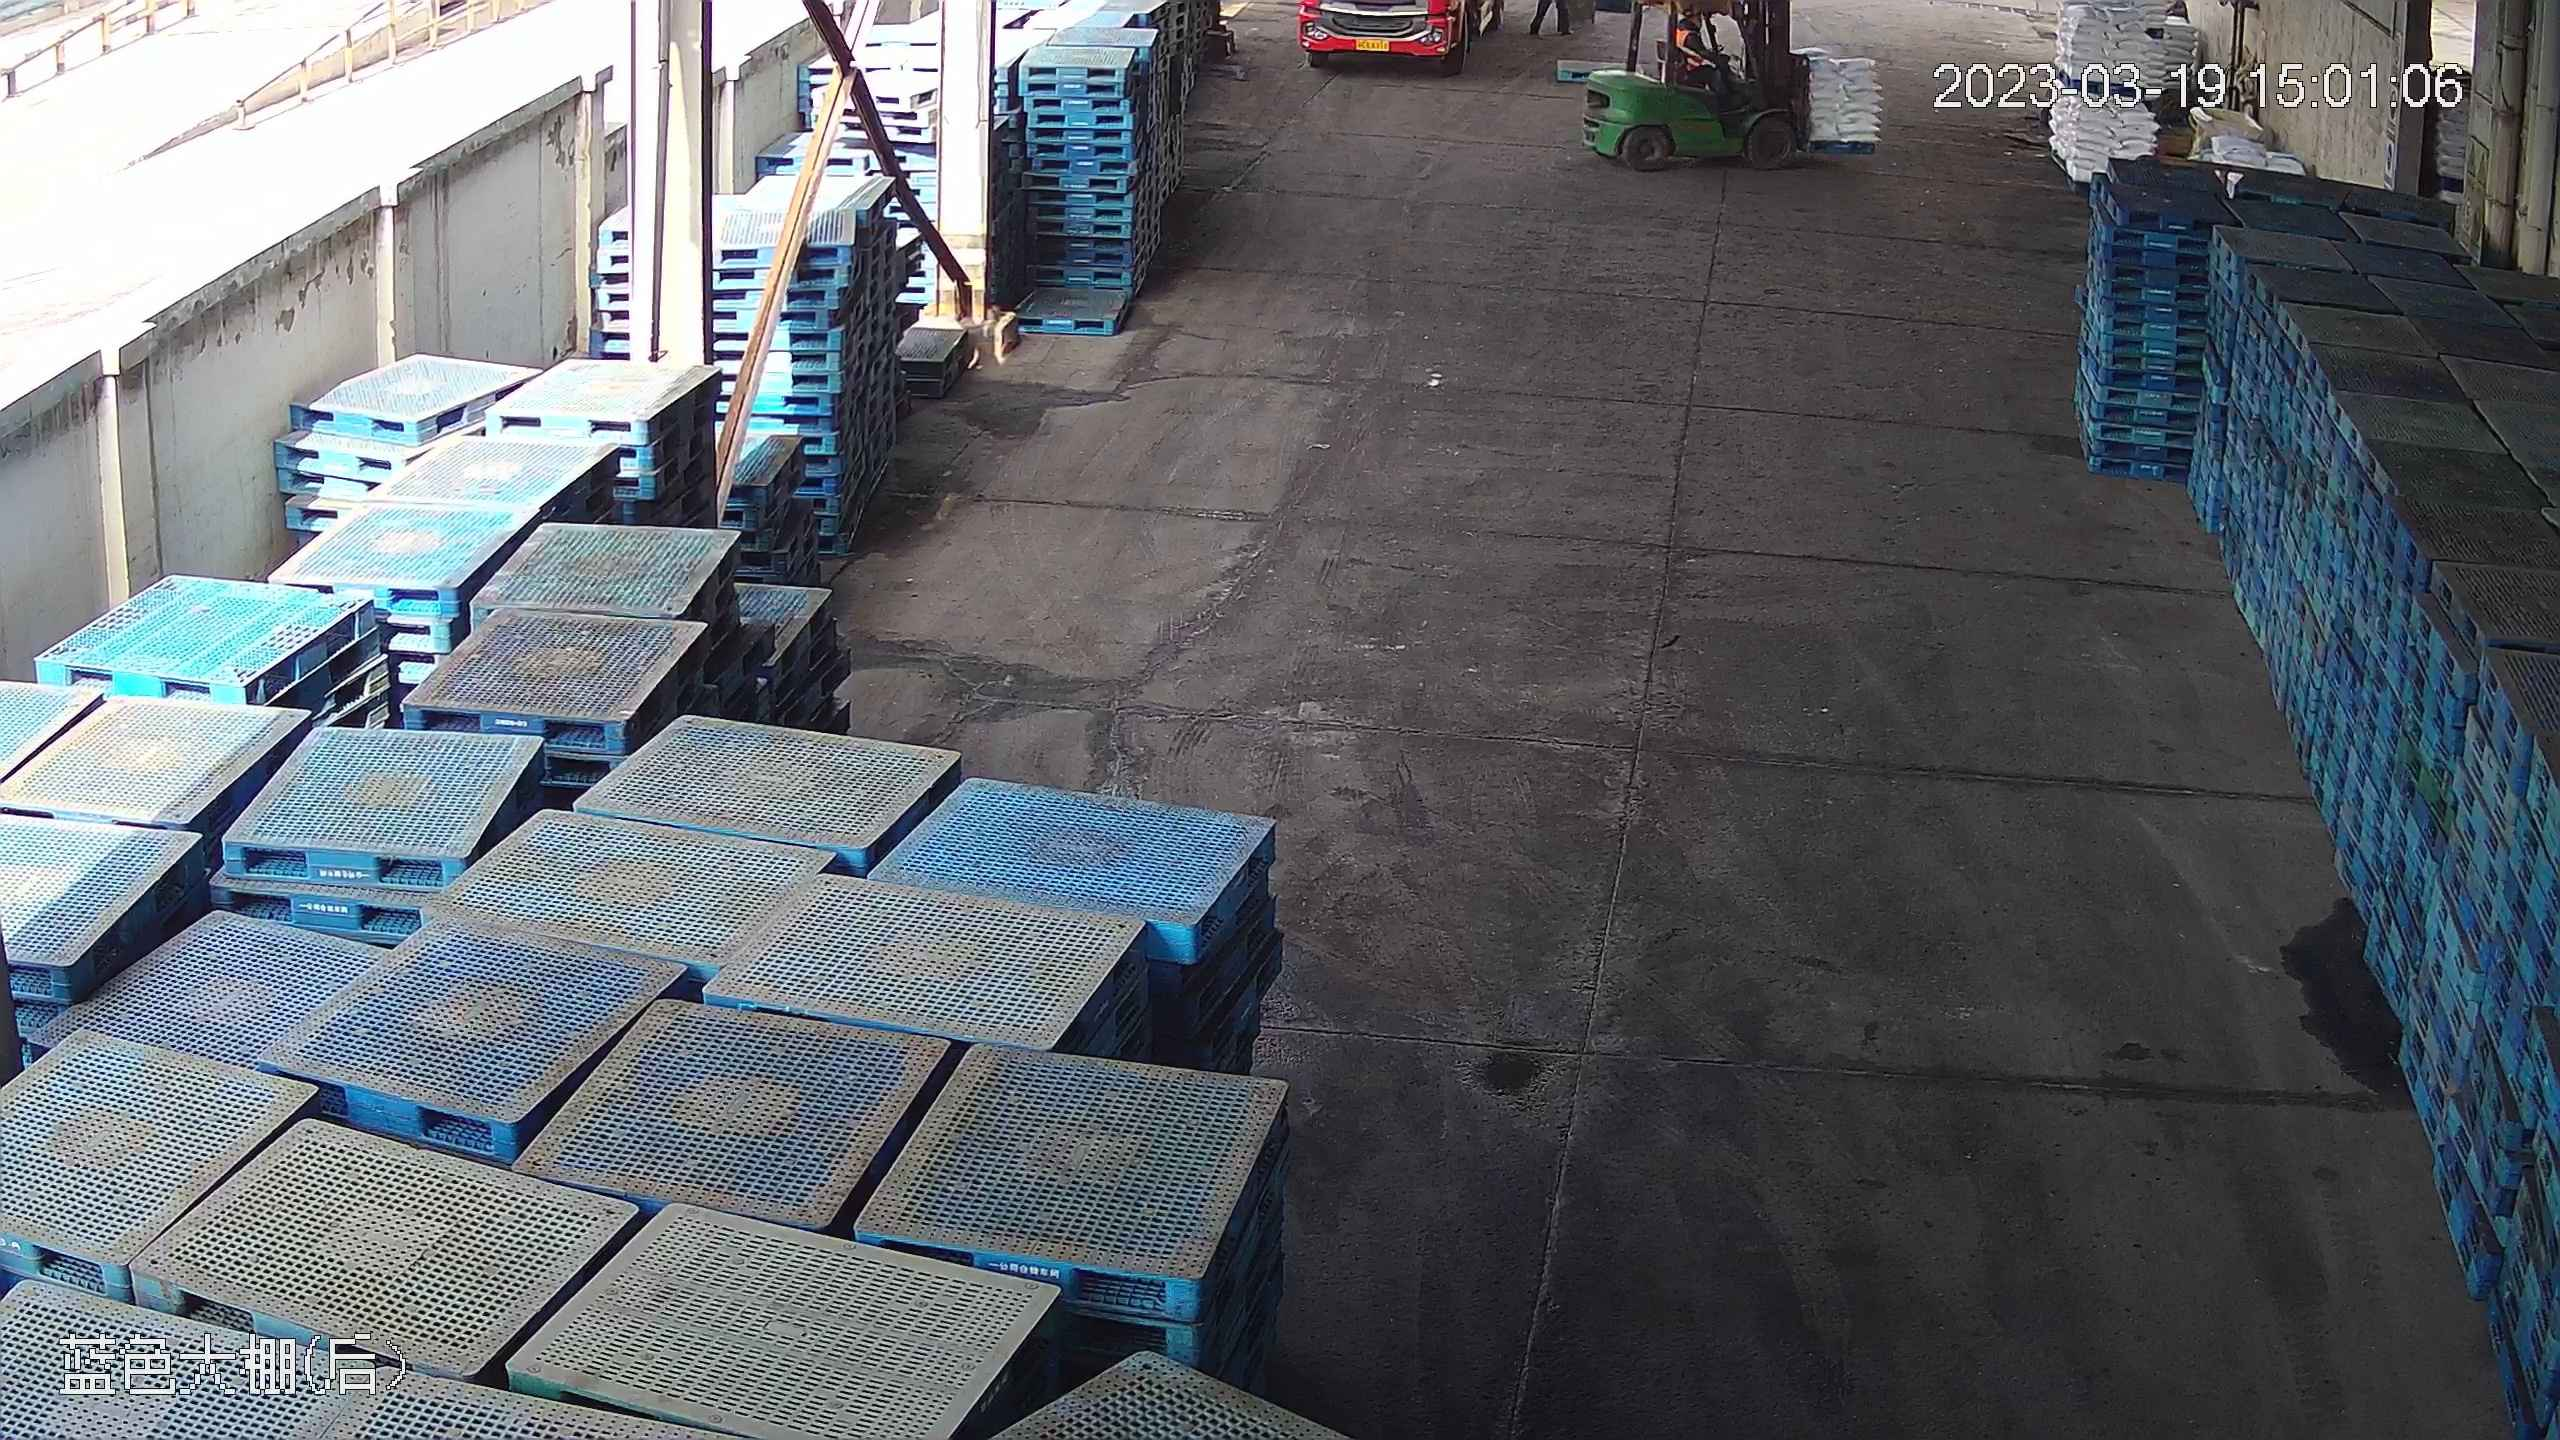people: (1667, 3, 1739, 103)
truck: (1285, 2, 1504, 72)
